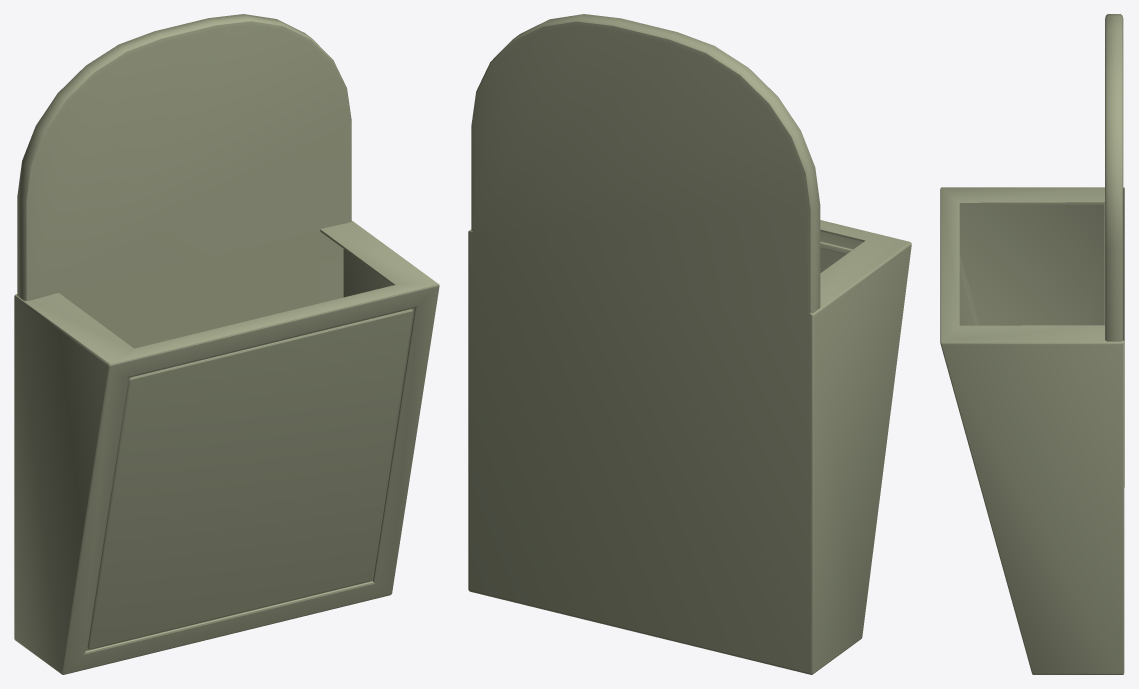
File: Post Box.fbx
3 views of the same model, side by side, from view 1: azimuth 30°, elevation 25°; view 2: azimuth 150°, elevation 25°; view 3: azimuth 270°, elevation 25° (orthographic). The views are drawn at different scales.
Parts seen in each view (by area): view 1: Cube, Cube.001; view 2: Cube, Cube.001; view 3: Cube, Cube.001.
Part boxes in pixels (x1,y1,x2,y2): Cube: [14, 220, 439, 674]; Cube.001: [17, 14, 351, 300]; Cube: [468, 220, 911, 674]; Cube.001: [471, 14, 820, 313]; Cube: [940, 187, 1124, 674]; Cube.001: [1105, 14, 1123, 341].
Size of the model in its own units: 30.3 by 50.49 by 15.15.
